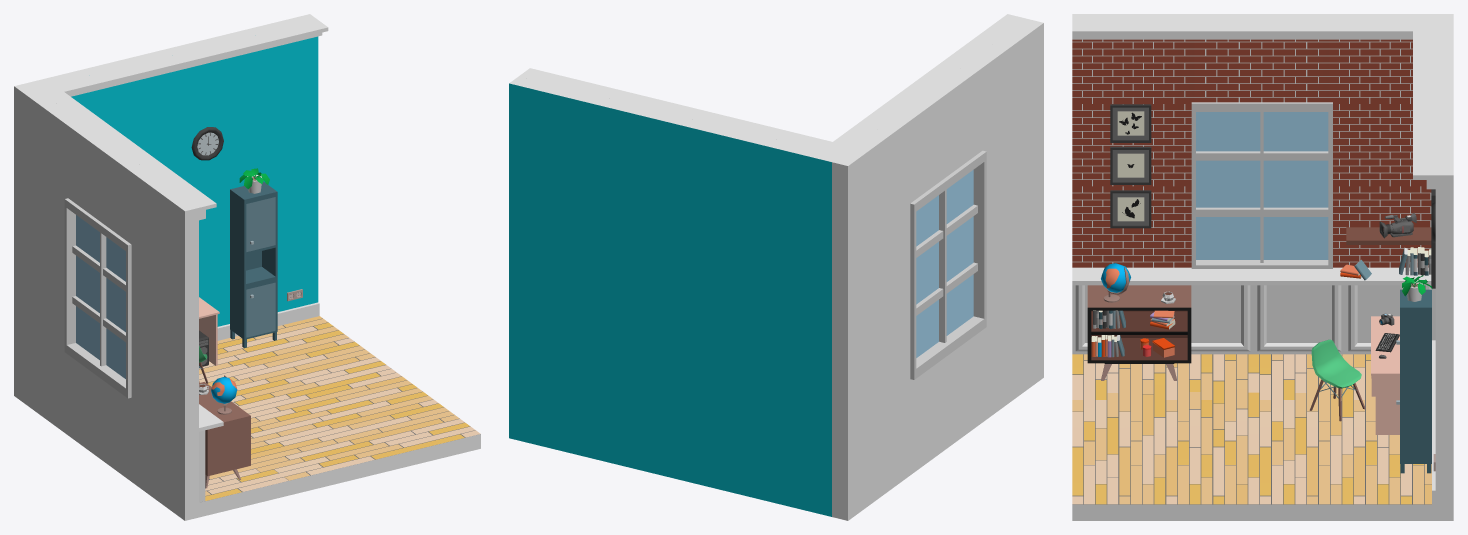
Rendered from room_6.glb.
3 renders of one model, left to right at view 1: azimuth 30°, elevation 25°; view 2: azimuth 150°, elevation 25°; view 3: azimuth 270°, elevation 25°, orthographic. The views are drawn at different scales.
Parts seen in each view (by area): view 1: Walls_094.001, floor_011.001, Walls_006.018, Walls_006.019, window_020.003, Walls_046.022, closet_025.001, Walls_006.021, Walls_006.020, shelf_066.001, Walls_003.042, Walls_003.041 (+6 smaller); view 2: Walls_094.001, Walls_006.019, Walls_006.018, window_020.003, Walls_006.021, Walls_006.020, Walls_003.042, Walls_003.044, Walls_003.041, Walls_003.043; view 3: floor_011.001, window_020.003, shelf_065.001, Walls_046.022, Walls_094.001, wall_005.004, wall_005.006, wall_005.007, wall_005.005, wall_005.002, Walls_006.018, shelf_066.001 (+23 smaller).
Part boxes in pixels (x1,y1,x2,y2): Walls_094.001: (28, 14, 318, 326); floor_011.001: (199, 316, 480, 500); Walls_006.018: (130, 167, 198, 520); Walls_006.019: (14, 83, 82, 435); window_020.003: (64, 198, 131, 398); Walls_046.022: (199, 318, 480, 517); closet_025.001: (230, 181, 277, 348); Walls_006.021: (69, 123, 143, 242); Walls_006.020: (69, 355, 129, 480); shelf_066.001: (199, 382, 250, 488); Walls_003.042: (48, 23, 328, 94); Walls_003.041: (36, 20, 322, 96); Walls_094.001: (509, 76, 840, 516); Walls_006.019: (832, 116, 910, 520); Walls_006.018: (965, 19, 1043, 423); window_020.003: (910, 150, 986, 379); Walls_006.021: (895, 65, 980, 202); Walls_006.020: (911, 331, 980, 474); Walls_003.042: (523, 68, 844, 149); Walls_003.044: (833, 14, 1018, 144); Walls_003.041: (519, 73, 845, 155); Walls_003.043: (838, 17, 1026, 151); floor_011.001: (1072, 354, 1431, 504); window_020.003: (1191, 102, 1332, 268); shelf_065.001: (1072, 285, 1435, 354); Walls_046.022: (1072, 354, 1435, 520); Walls_094.001: (1435, 21, 1453, 520); wall_005.004: (1194, 39, 1329, 102); wall_005.006: (1072, 186, 1191, 267); wall_005.007: (1072, 39, 1194, 103); wall_005.005: (1072, 104, 1191, 186); wall_005.002: (1333, 104, 1426, 186); Walls_006.018: (1072, 14, 1194, 267); shelf_066.001: (1087, 285, 1191, 380).
Bounding box in the file's own units: 4.25 × 4.2 × 4.2.
1 material, 1 textured.
